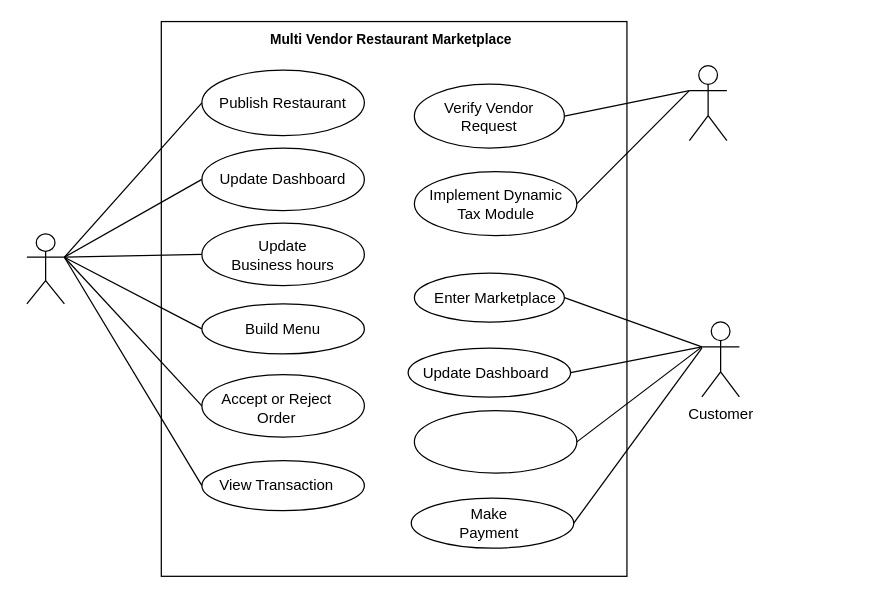
This 886x599 diagram has some shape labels left out. Here are the shapes that lost their labels. From the top down, the centre of each, then its label:
point (707, 102): Admin
point (45, 268): Vendor
point (495, 441): Search by Keyword or Location
